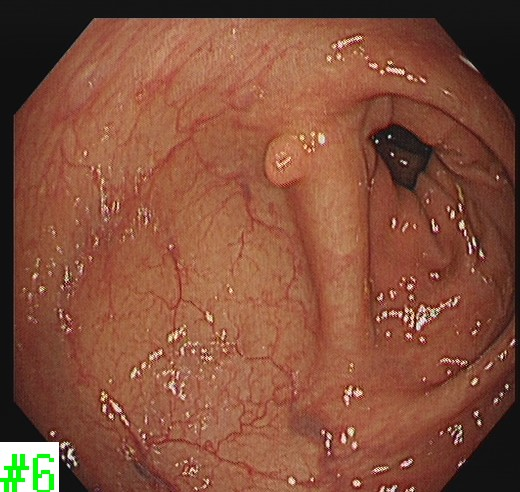adenoma: (260, 132, 308, 188)
